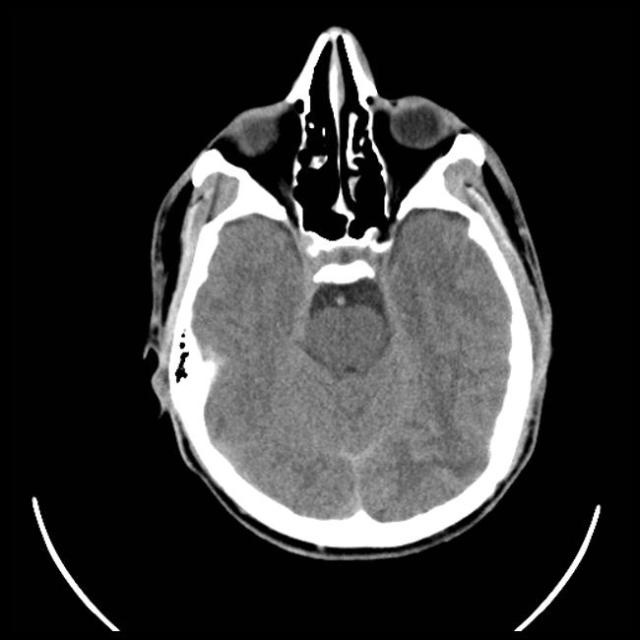lesion: (139, 26, 557, 559)
